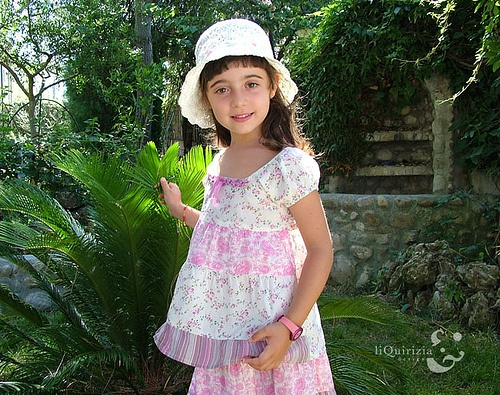head: (201, 54, 282, 134)
person: (152, 20, 335, 389)
